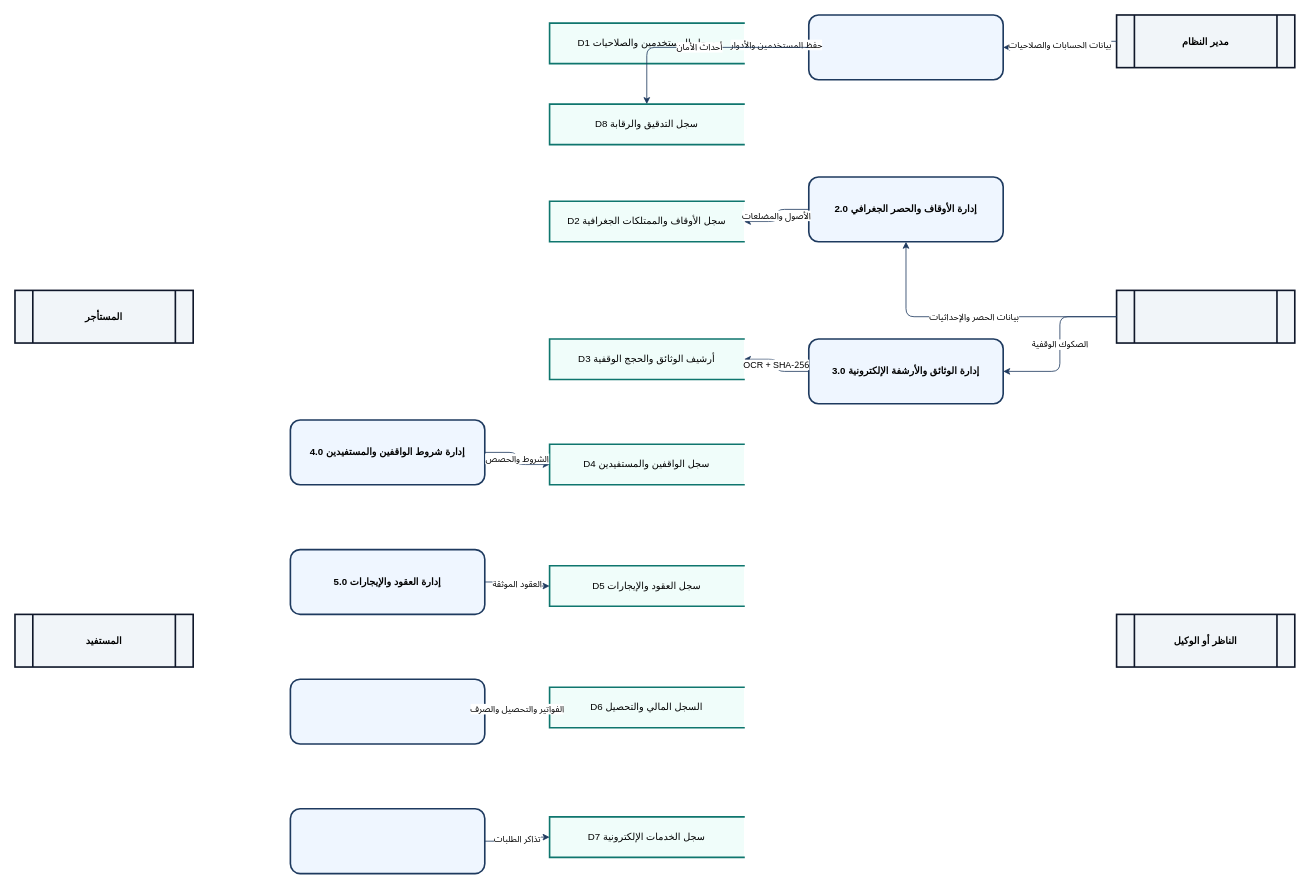
This 1309x888 diagram has some shape labels left out. The centre of each missing label's shape, as x and y in pixels:
1.0 إدارة الحسابات والصلاحيات: the point at 906,47
6.0 إدارة المعاملات المالية والتحصيل: the point at 387,711
7.0 إدارة الخدمات الإلكترونية والطلبات: the point at 387,841
موظف إدارة الأوقاف: the point at 1205,316
